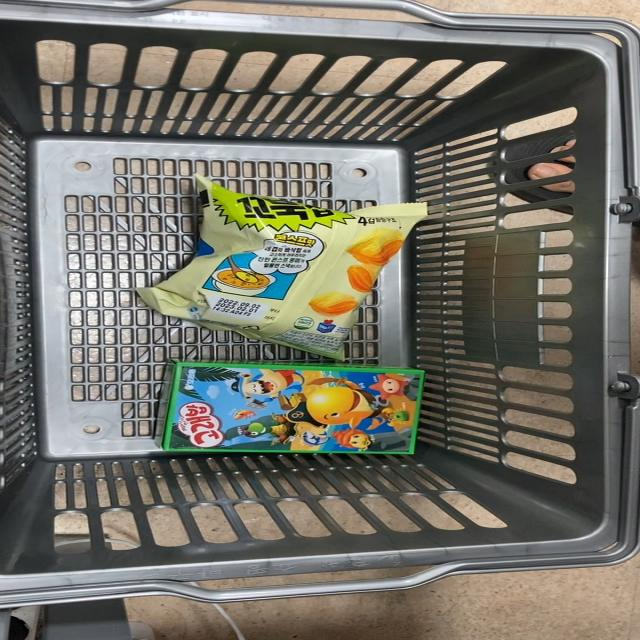ggobukchip: (131, 167, 438, 360)
goraebob: (123, 354, 444, 476)
